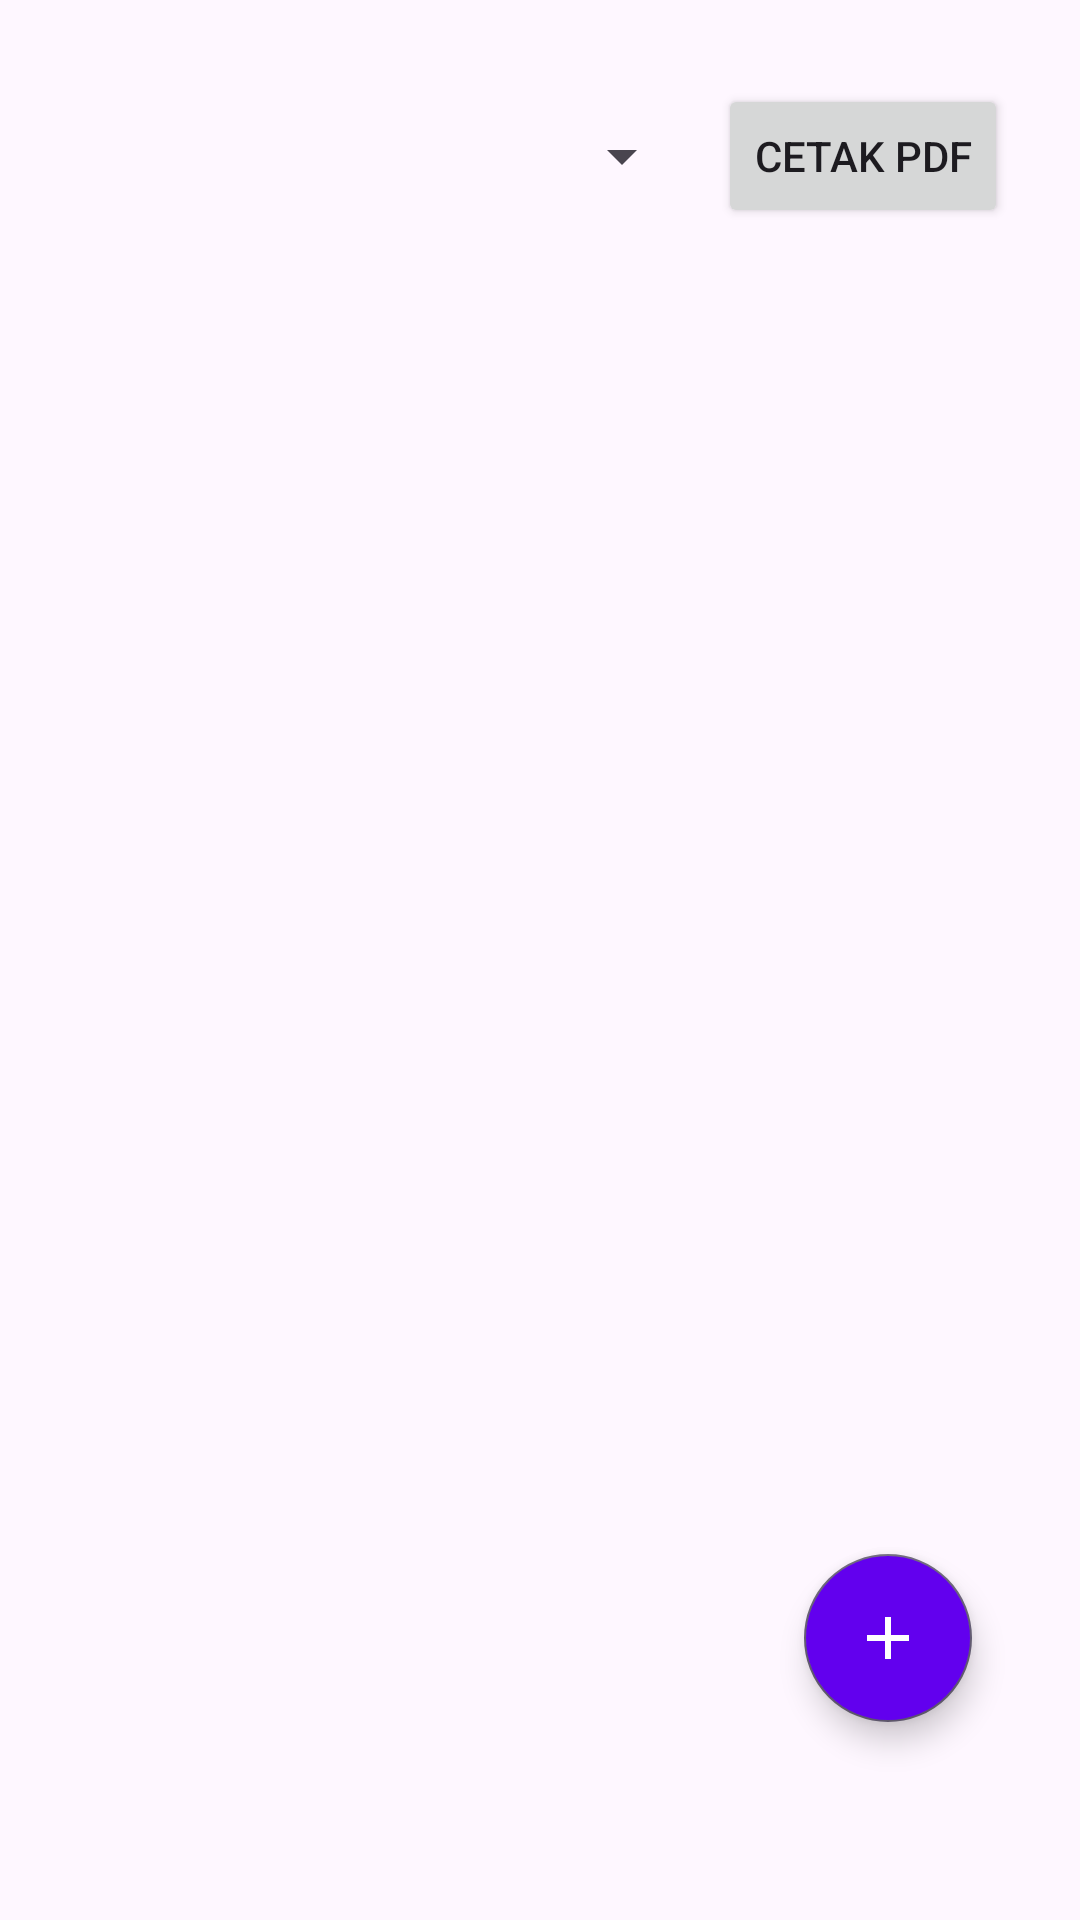

Named icons in this screenshot (1080×1920) and their bounding boxes, (x1,y1,x2,y2):
Add Absensi: (804,1554,972,1722)
